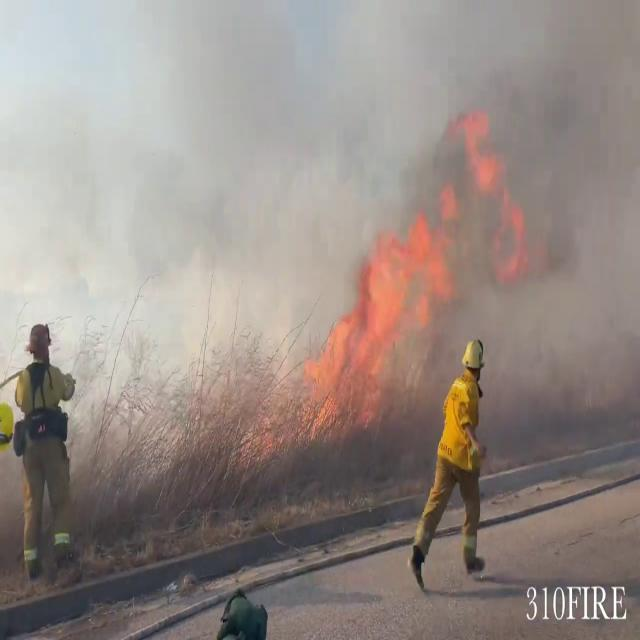Fire: (301, 190, 437, 435)
Smoke: (292, 0, 640, 446)
